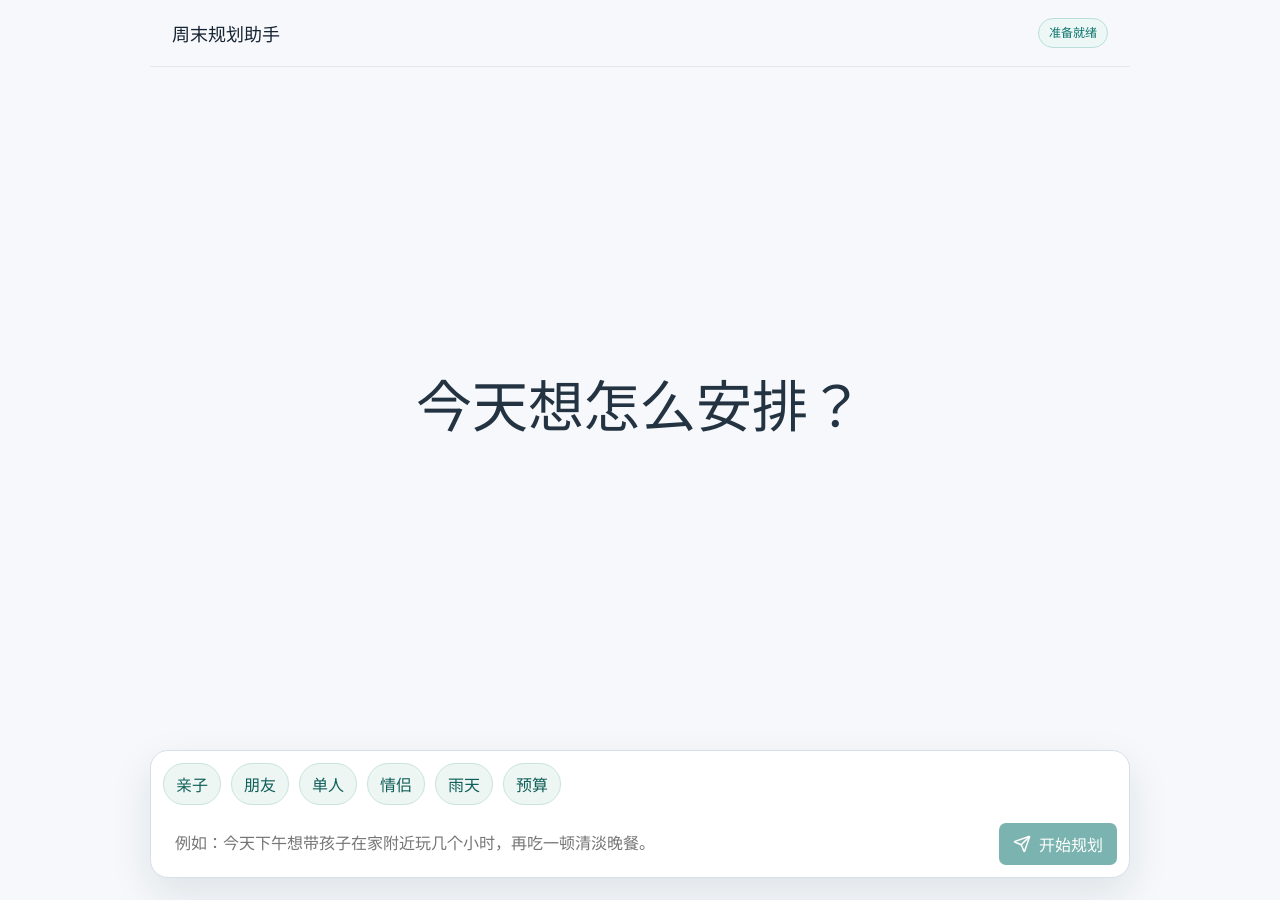
Test: App › uses the locally selected plan index when replanning
Type "Plan a family afternoon" into the text box with test id "main-composer-input" at [576, 841], box x1=163 y1=817 x2=989 y2=865
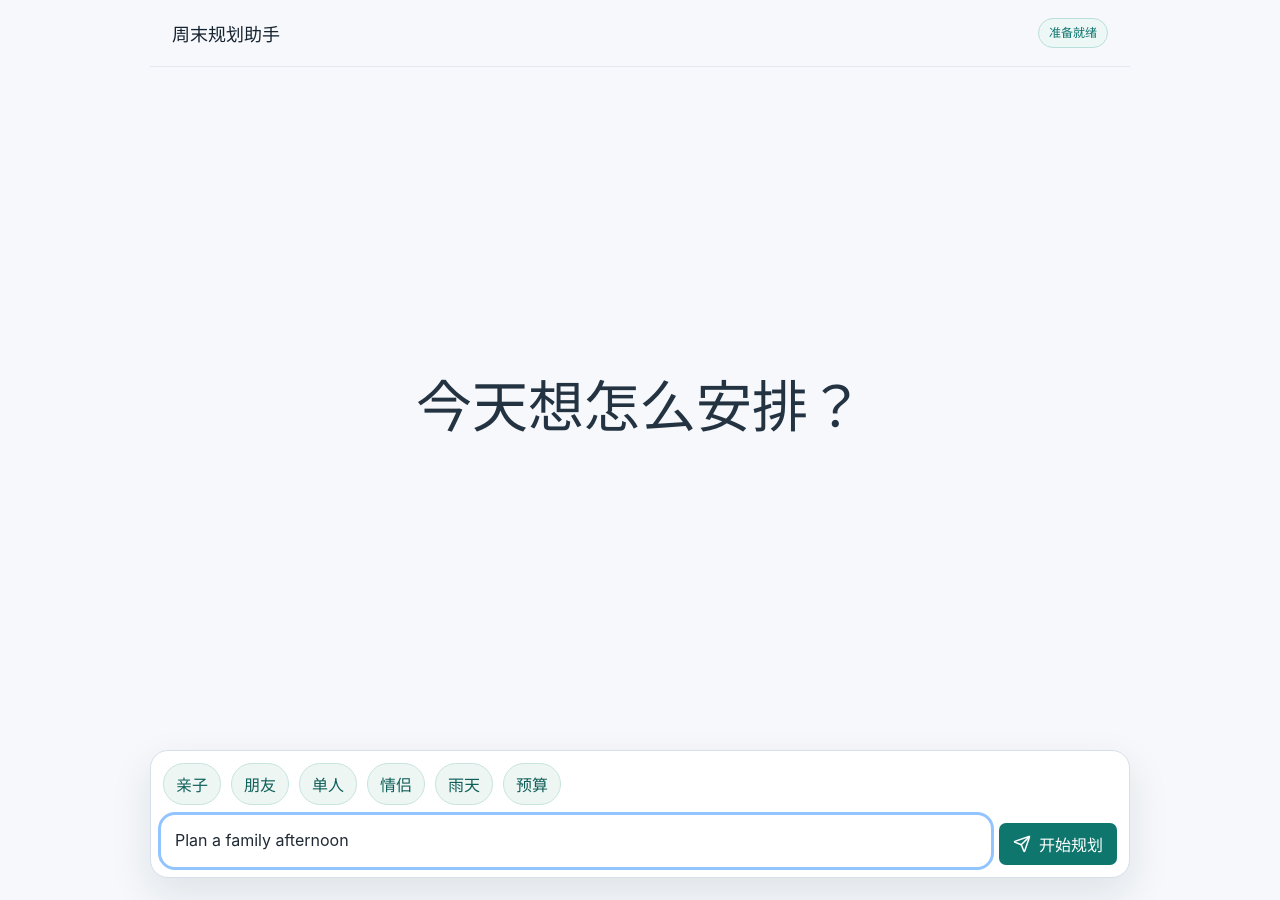
Click the button with test id "start-button" at [1058, 844], box x1=999 y1=823 x2=1117 y2=865
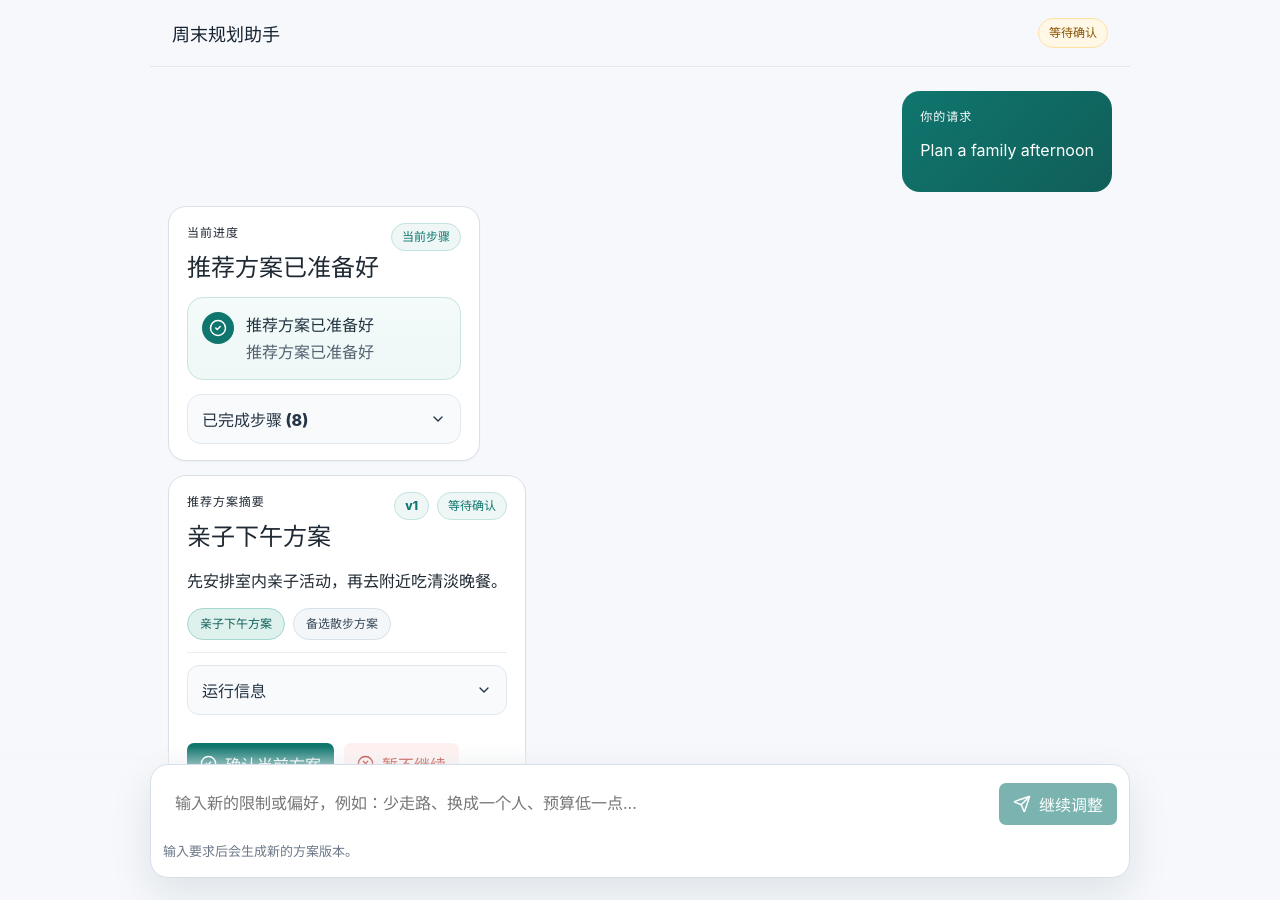
Expected: the heading "亲子下午方案" is shown, x1=187 y1=517 x2=331 y2=552
Click the tab "备选散步方案" at [342, 624], box x1=293 y1=608 x2=391 y2=640
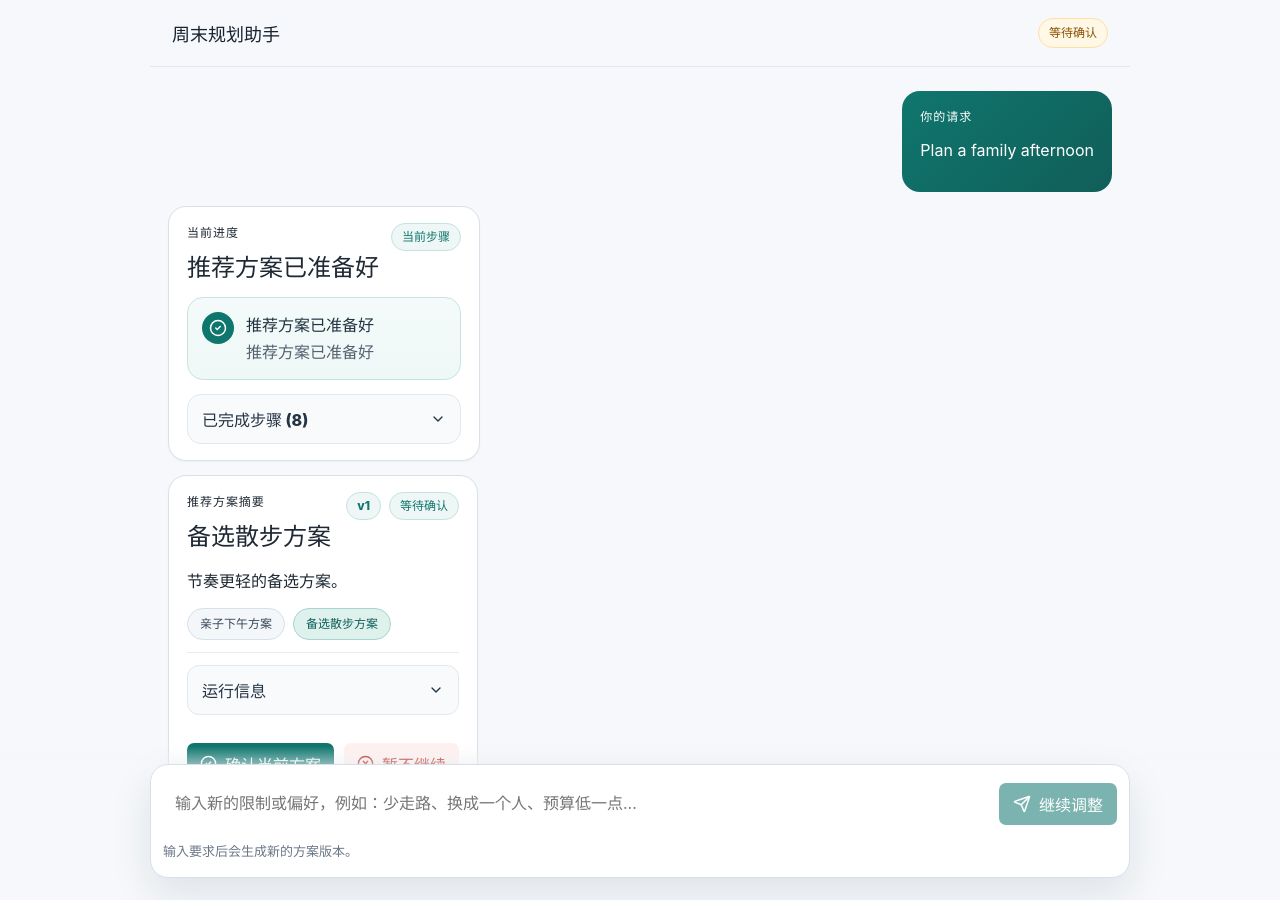
Type "Keep the backup plan, but reduce walking." into the text box with test id "main-composer-input" at [576, 801], box x1=163 y1=777 x2=989 y2=825
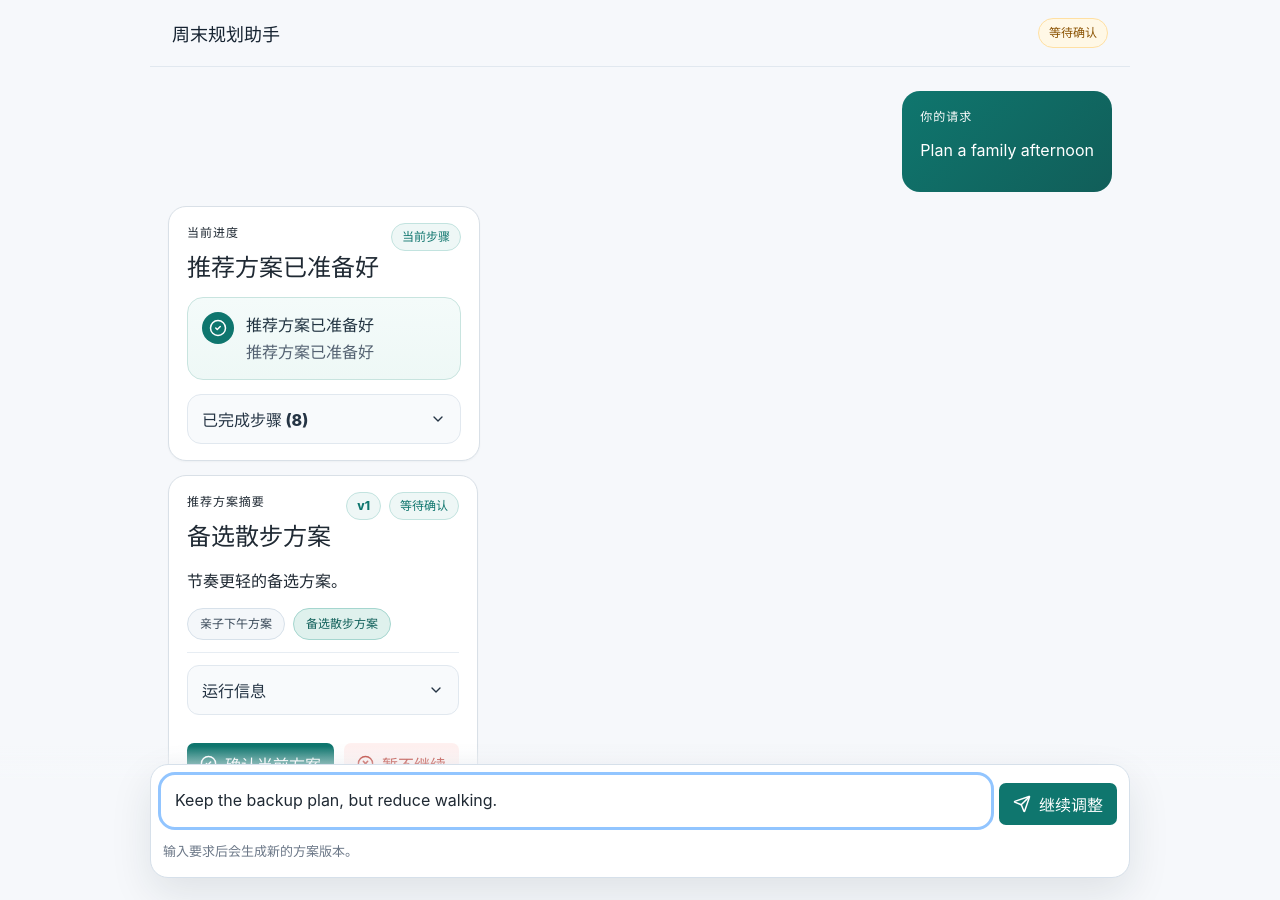
Click the button with test id "start-button" at [1058, 804], box x1=999 y1=783 x2=1117 y2=825
(page scrolled)
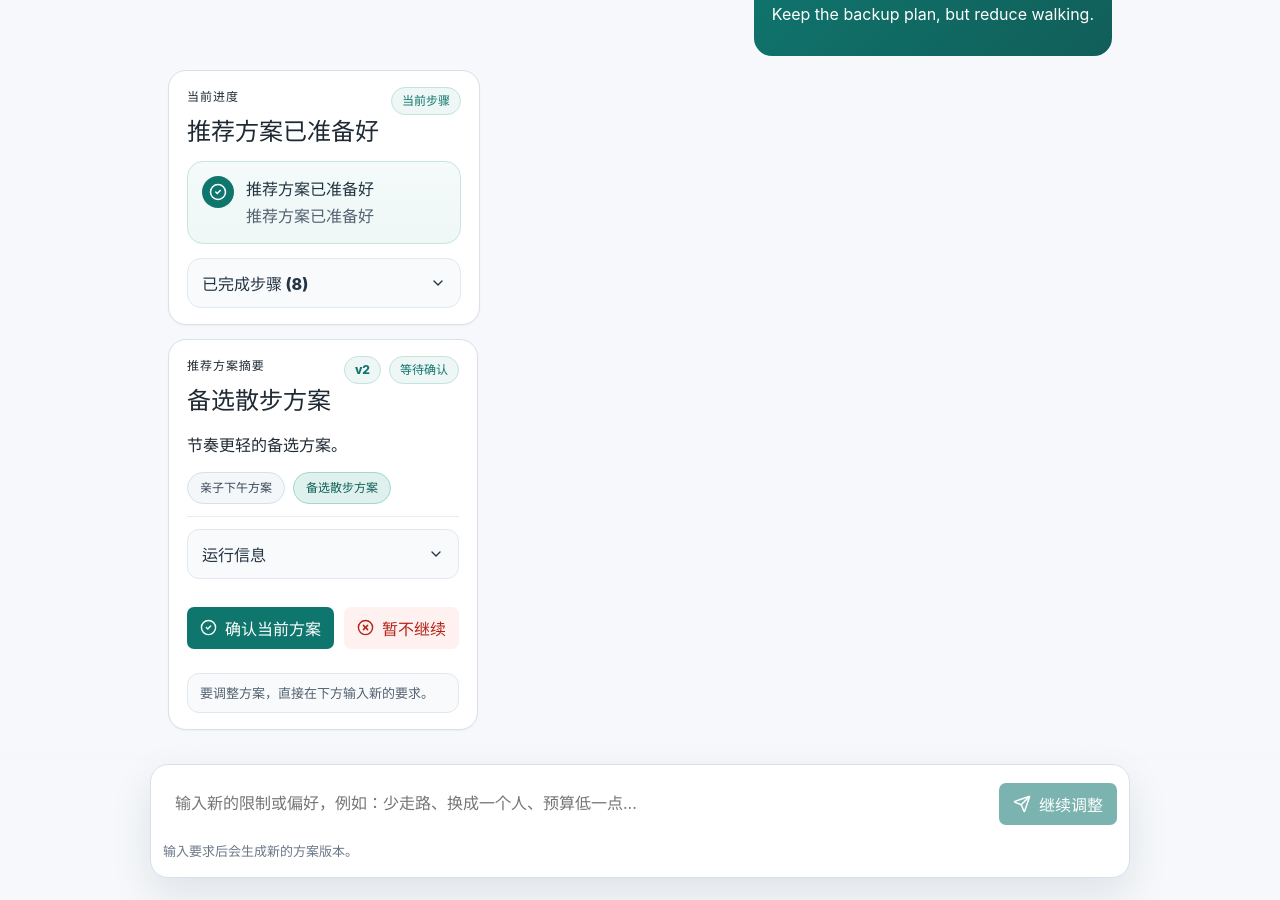
Expected: the text "v2" is shown, x1=344 y1=356 x2=381 y2=384
